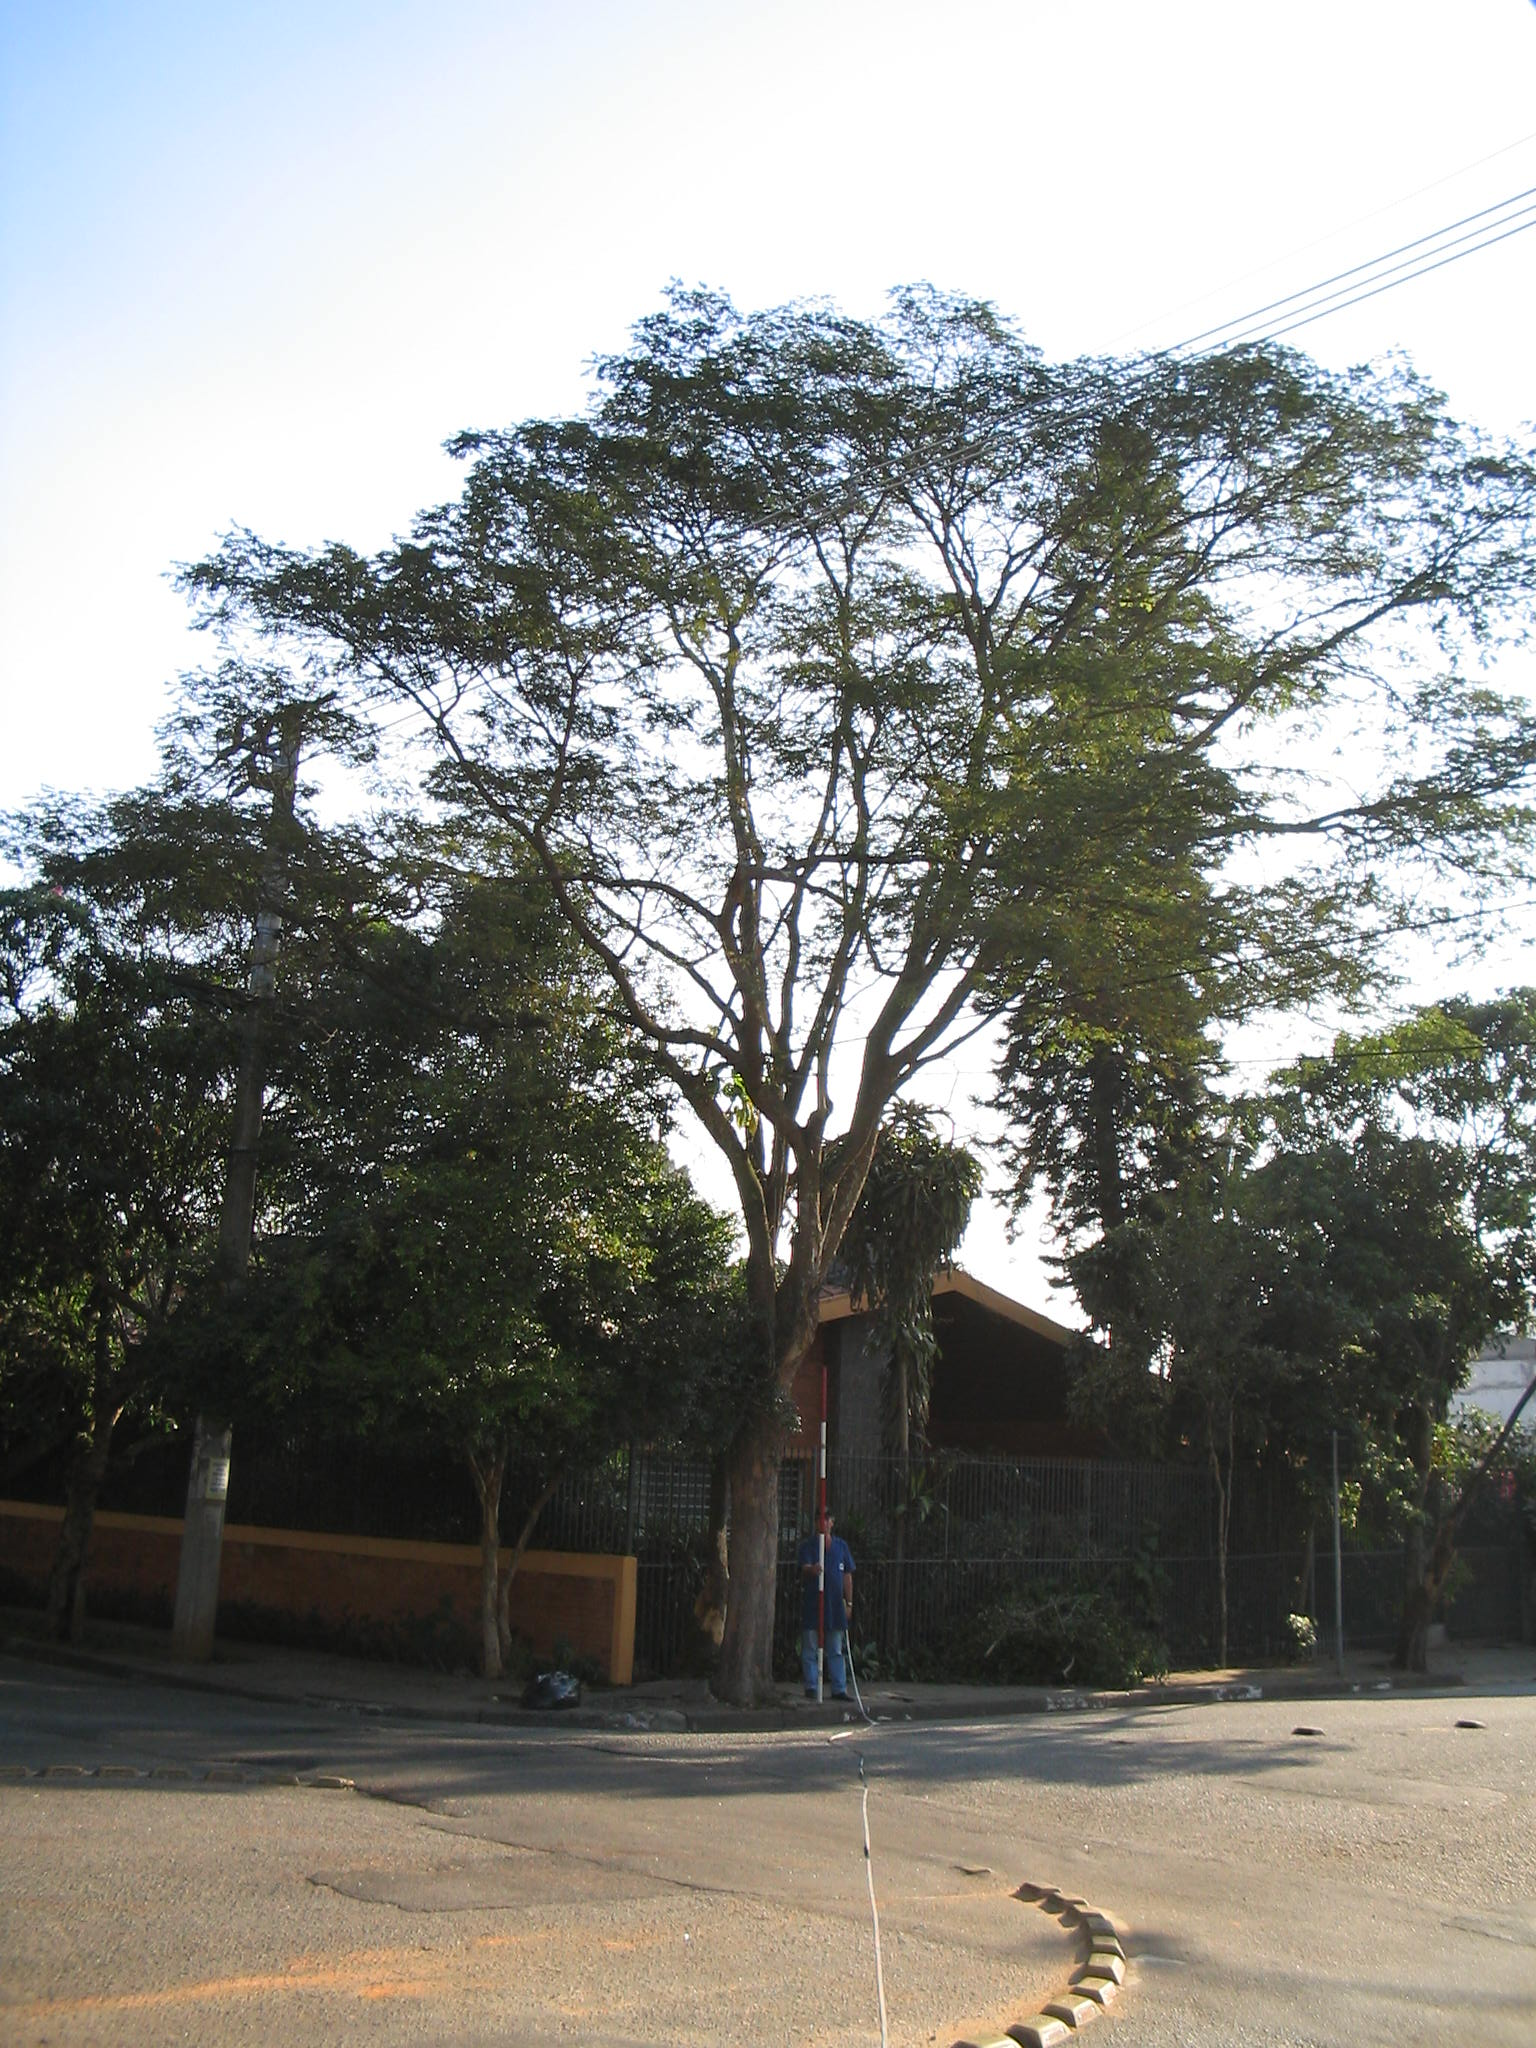crown: (169, 279, 1525, 1271), (231, 1071, 710, 1511)
stem: (689, 1347, 807, 1711), (460, 1534, 531, 1682)
stick: (802, 1361, 849, 1713)
tree: (161, 274, 1531, 1716), (223, 1063, 716, 1679)
